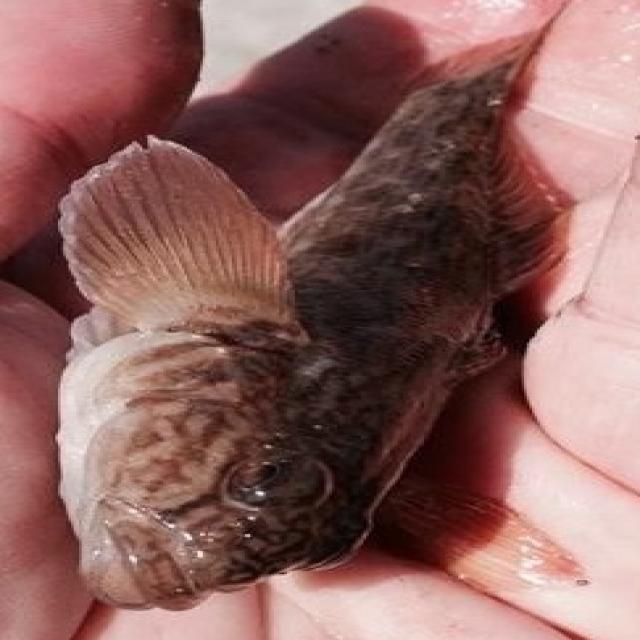Goby: (3, 0, 555, 594)
